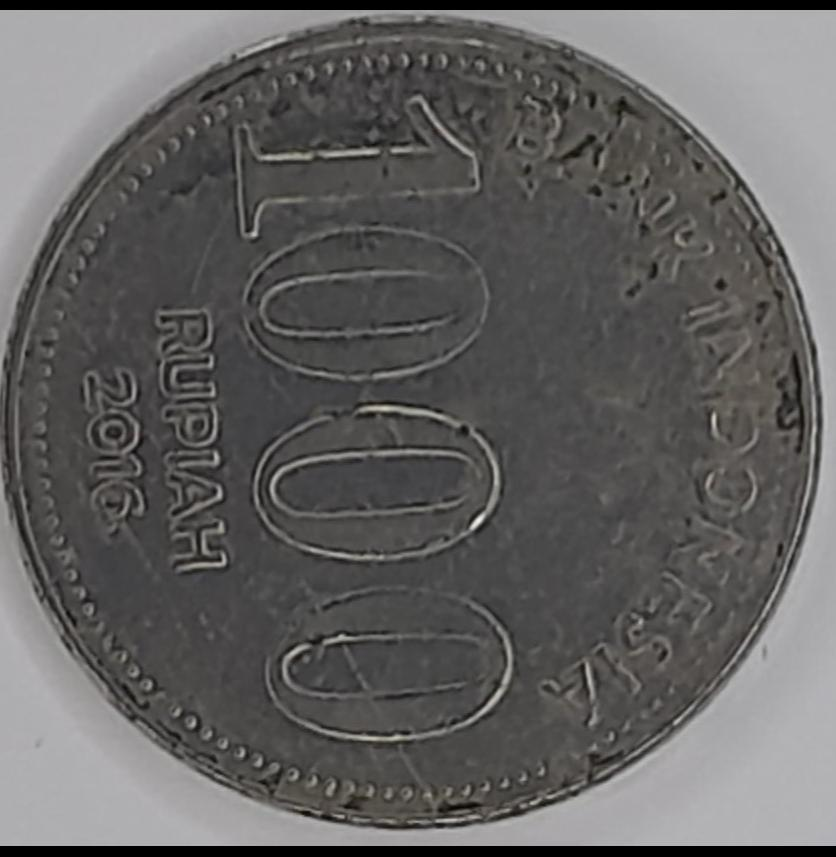coin_1000_e2016: (14, 17, 825, 857)
